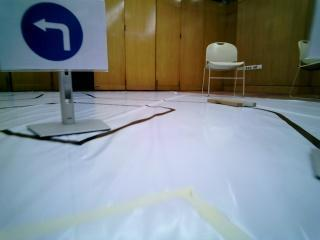left: (5, 3, 104, 67)
